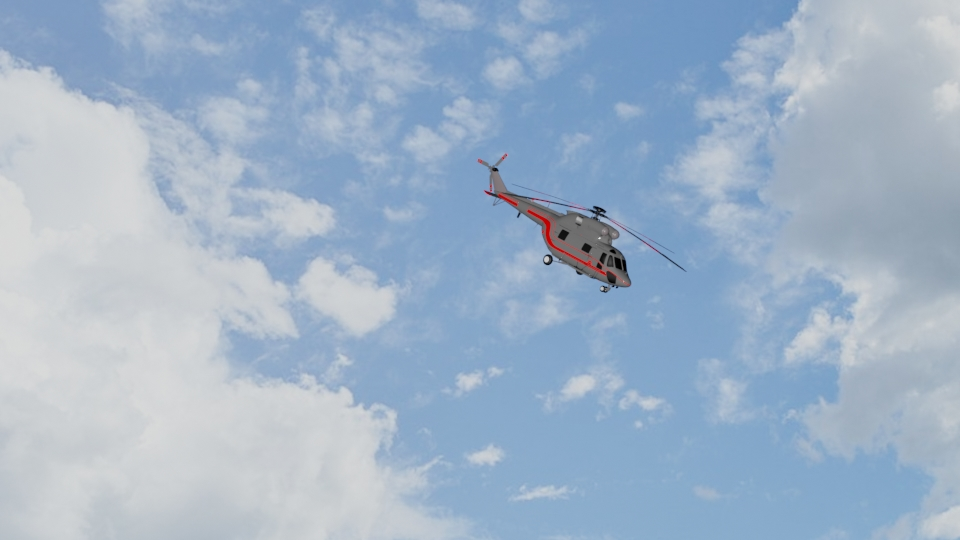heli: (480, 149, 679, 295)
